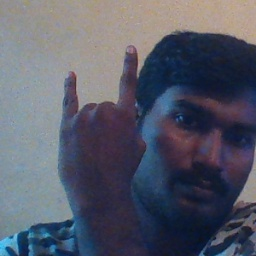V: (55, 42, 151, 195)
